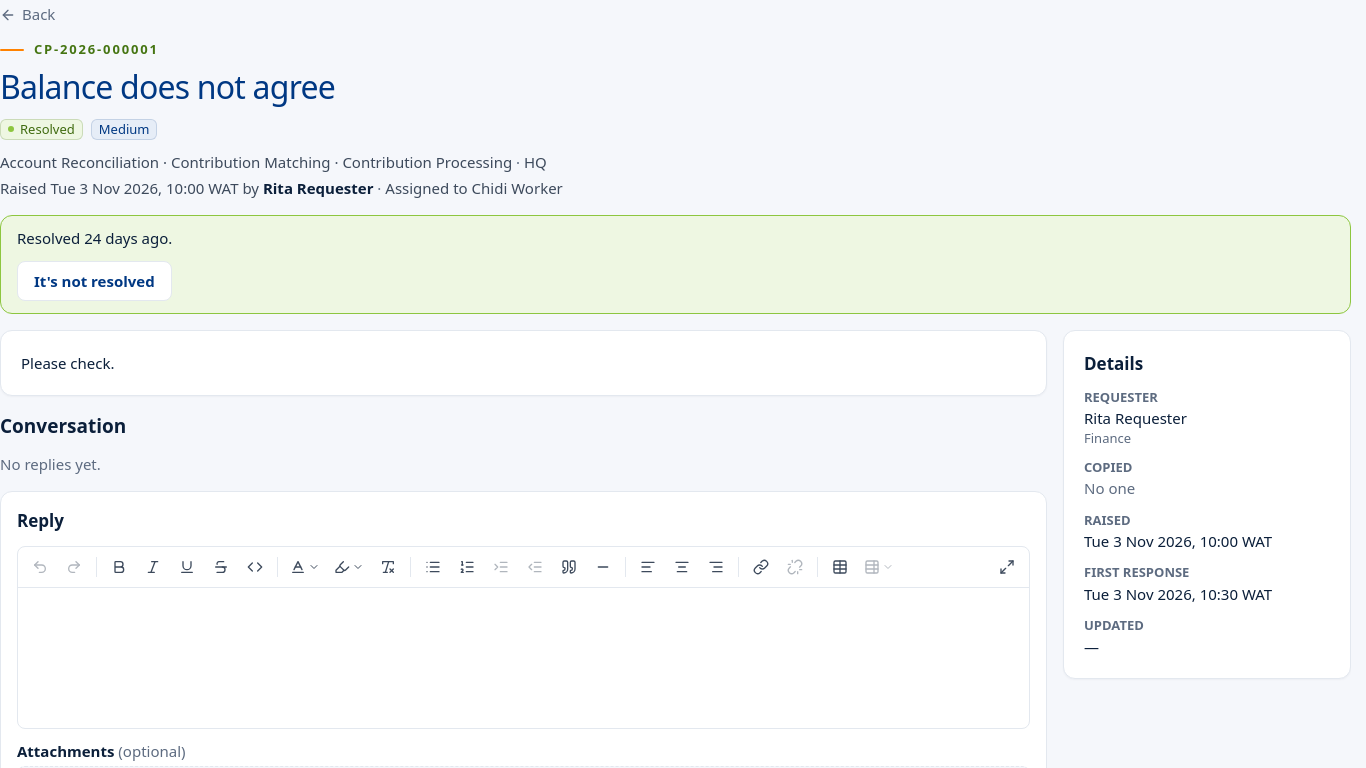
Action bar › a 400 without errors and a 403 show the message in the dialog
Click the button "It's not resolved" at x=94, y=281, box [17, 261, 172, 301]
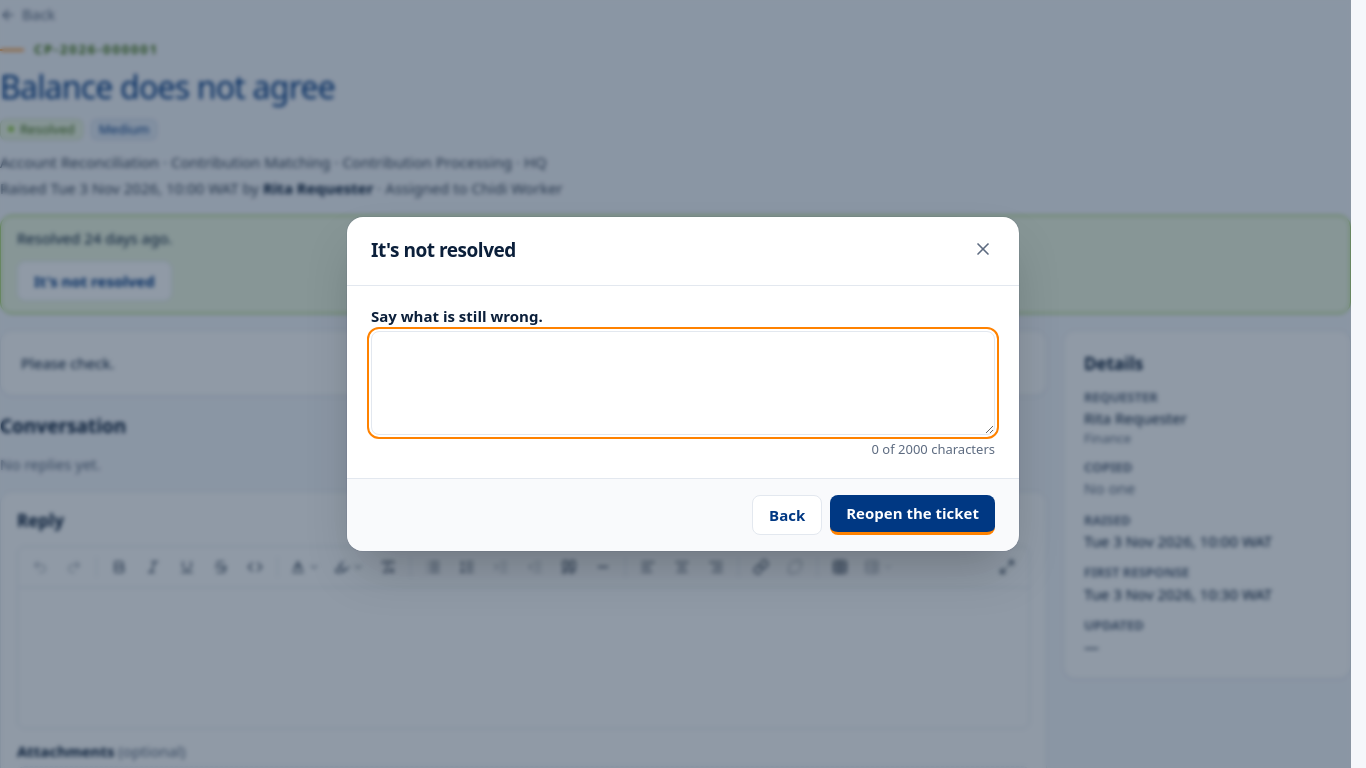
Type "Still short." into the text box at x=683, y=383, box [371, 331, 995, 435]
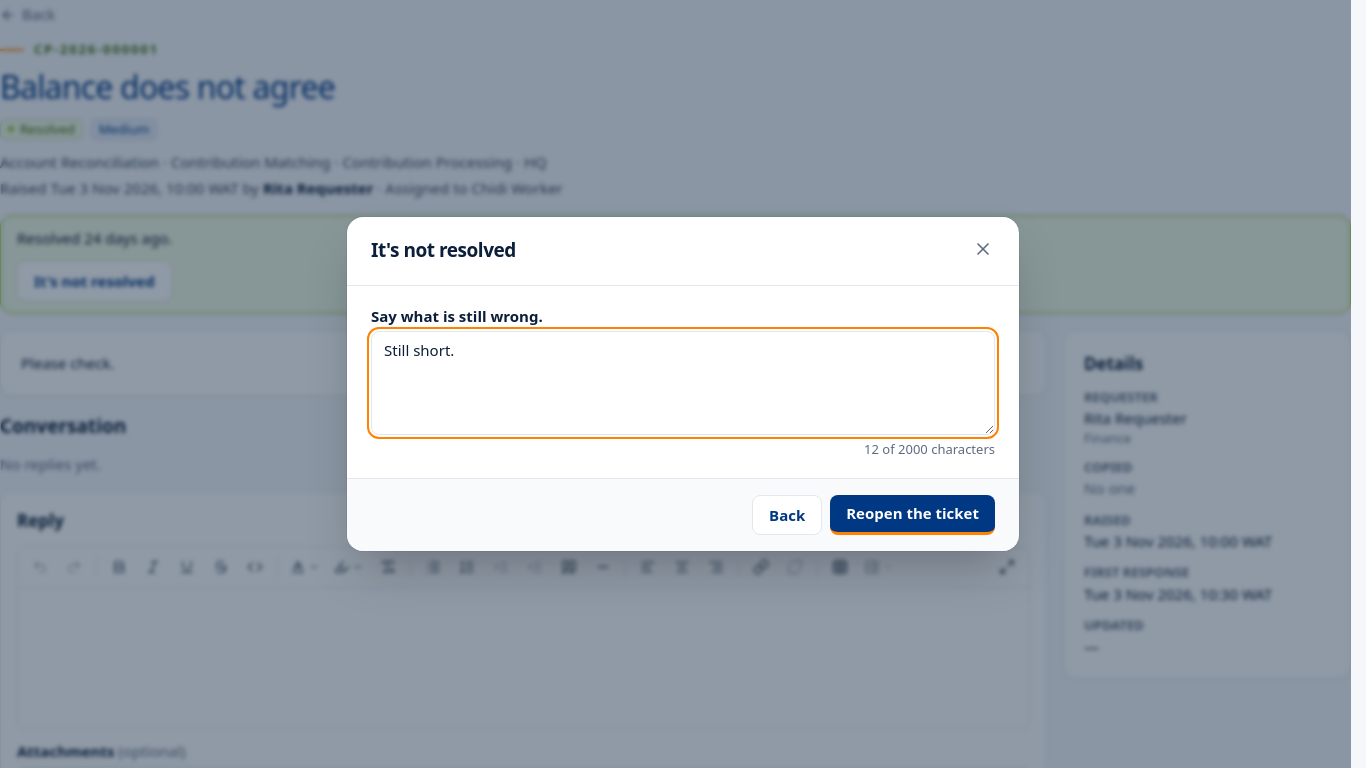
Click the button "Reopen the ticket" at x=913, y=515, box [830, 495, 995, 535]
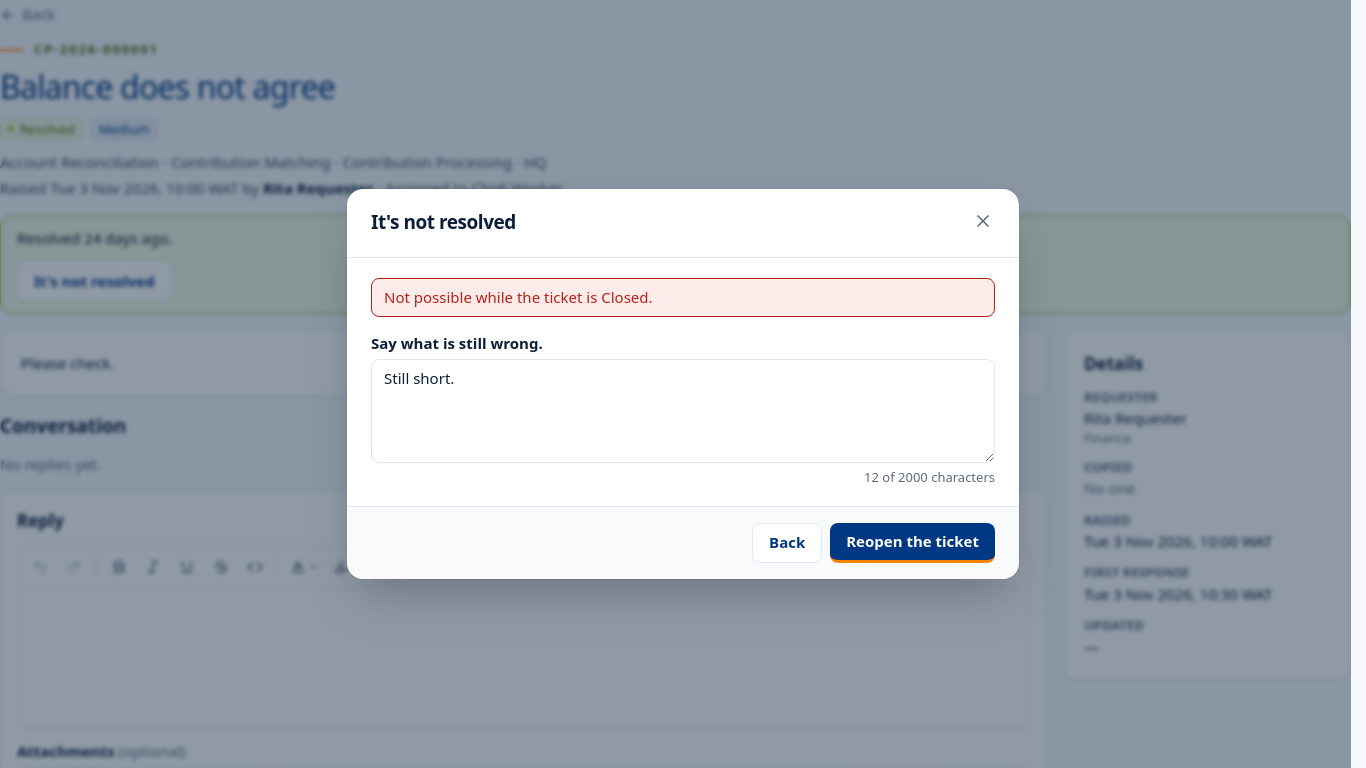
Expected: the message reads "Not possible while the ticket is Closed.", [384, 287, 652, 307]
